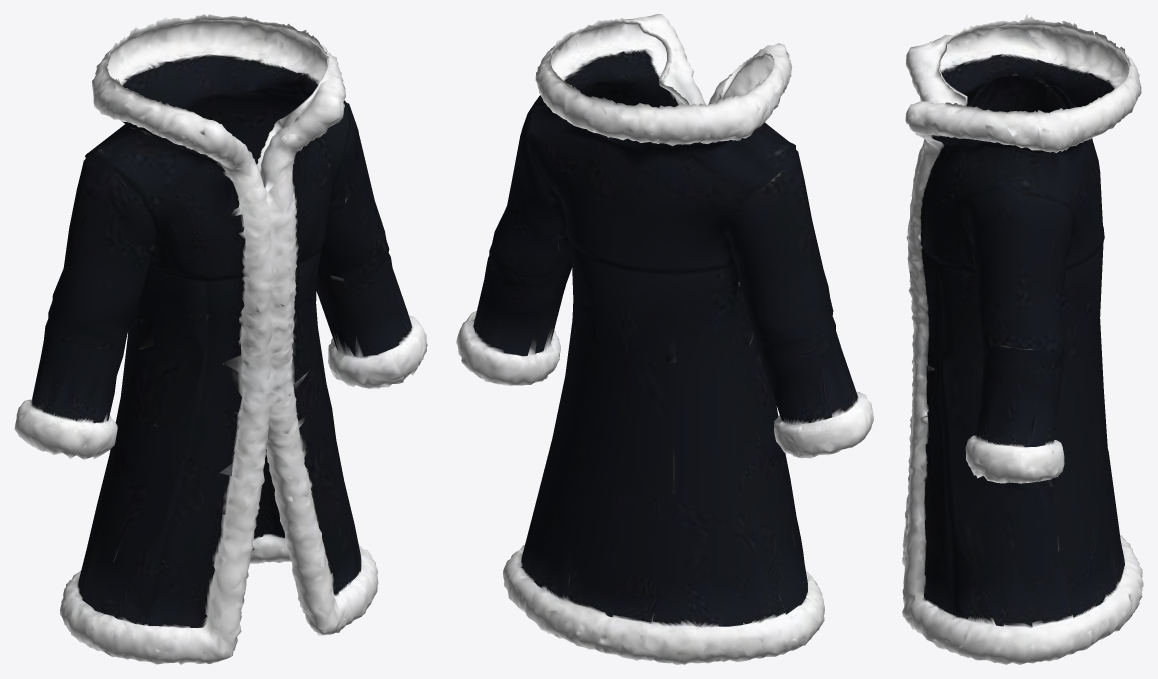
File: MidnightCoat.glb
The picture shows the model from 3 angles, left to right: view 1: azimuth 30°, elevation 25°; view 2: azimuth 150°, elevation 25°; view 3: azimuth 270°, elevation 25°; orthographic projection. The views are drawn at different scales.
Parts seen in each view (by area): view 1: MidnightShearlingCoat; view 2: MidnightShearlingCoat; view 3: MidnightShearlingCoat.
Boxes of the visible parts, x1=… form: MidnightShearlingCoat: x1=14, y1=14, x2=427, y2=664; MidnightShearlingCoat: x1=456, y1=14, x2=873, y2=664; MidnightShearlingCoat: x1=902, y1=14, x2=1143, y2=664.
Bounding box in the file's own units: 1.39 × 1.84 × 0.7433.
Materials: 1 (1 with a texture image).
